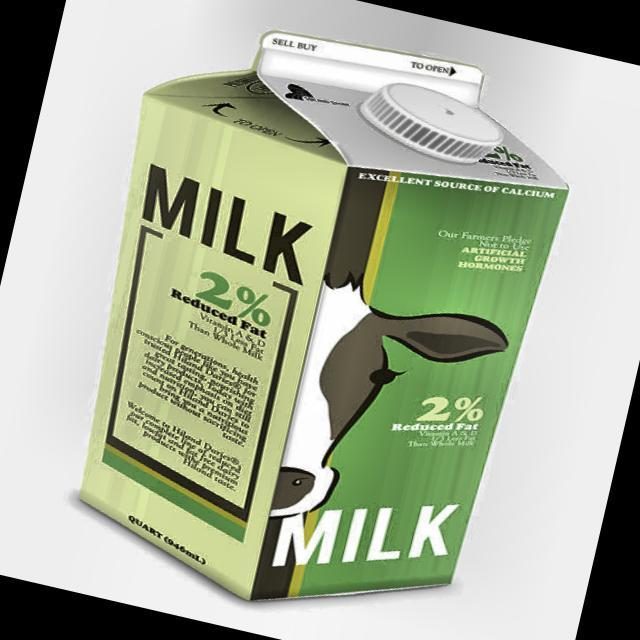cardboard: (36, 0, 591, 640)
